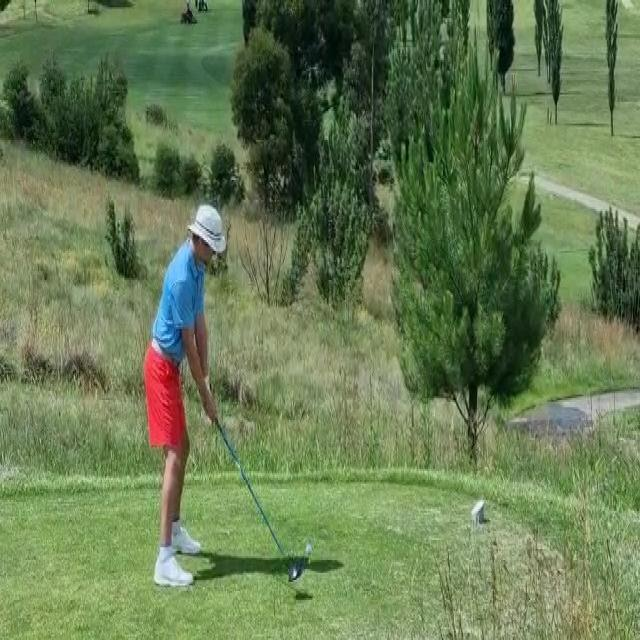club head: (285, 554, 305, 586)
